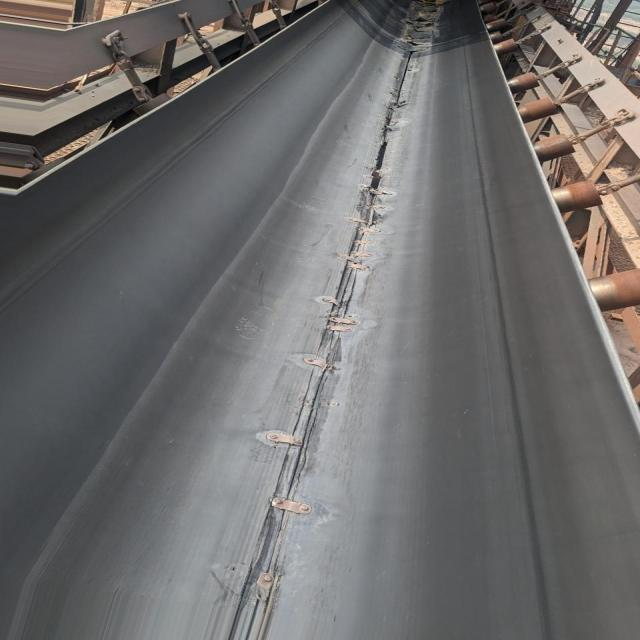Roller: (479, 4, 640, 309)
Tear: (365, 57, 418, 189)
patch work: (225, 195, 379, 630), (401, 5, 442, 47)
